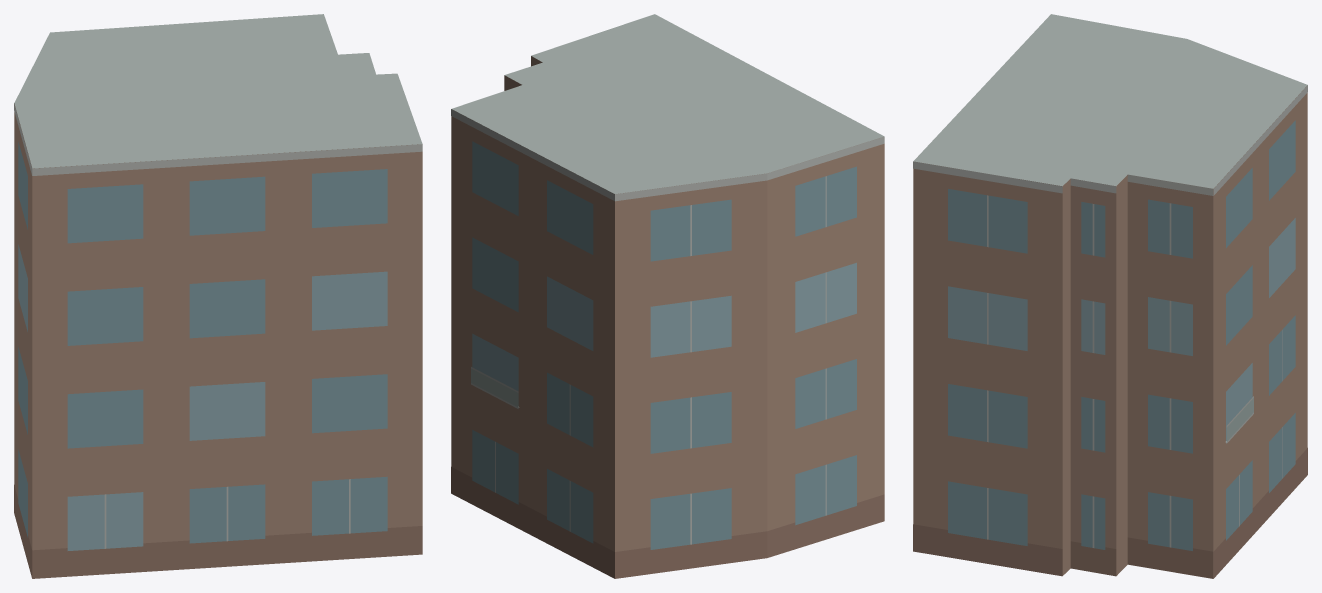
File: survey-upis-32514348.glb
3 renders of one model, left to right at view 1: azimuth 30°, elevation 25°; view 2: azimuth 150°, elevation 25°; view 3: azimuth 270°, elevation 25°, orthographic. The views are drawn at different scales.
Visible parts, largest first — view 1: survey-upis-32514348.tmp; view 2: survey-upis-32514348.tmp; view 3: survey-upis-32514348.tmp.
Part boxes in pixels (bbox=[...]): survey-upis-32514348.tmp: bbox=[14, 14, 422, 578]; survey-upis-32514348.tmp: bbox=[451, 14, 884, 578]; survey-upis-32514348.tmp: bbox=[913, 14, 1307, 578].
Size of the model in its own units: 12.67 by 13.17 by 12.09.
